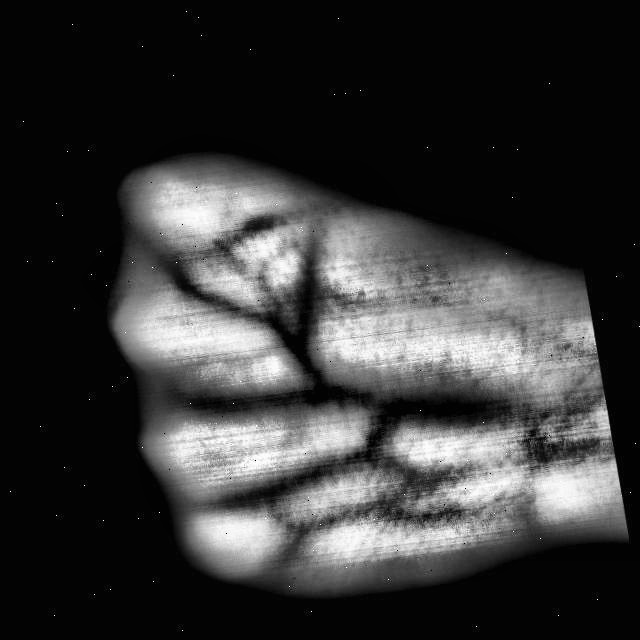Vein: (333, 376, 510, 435)
